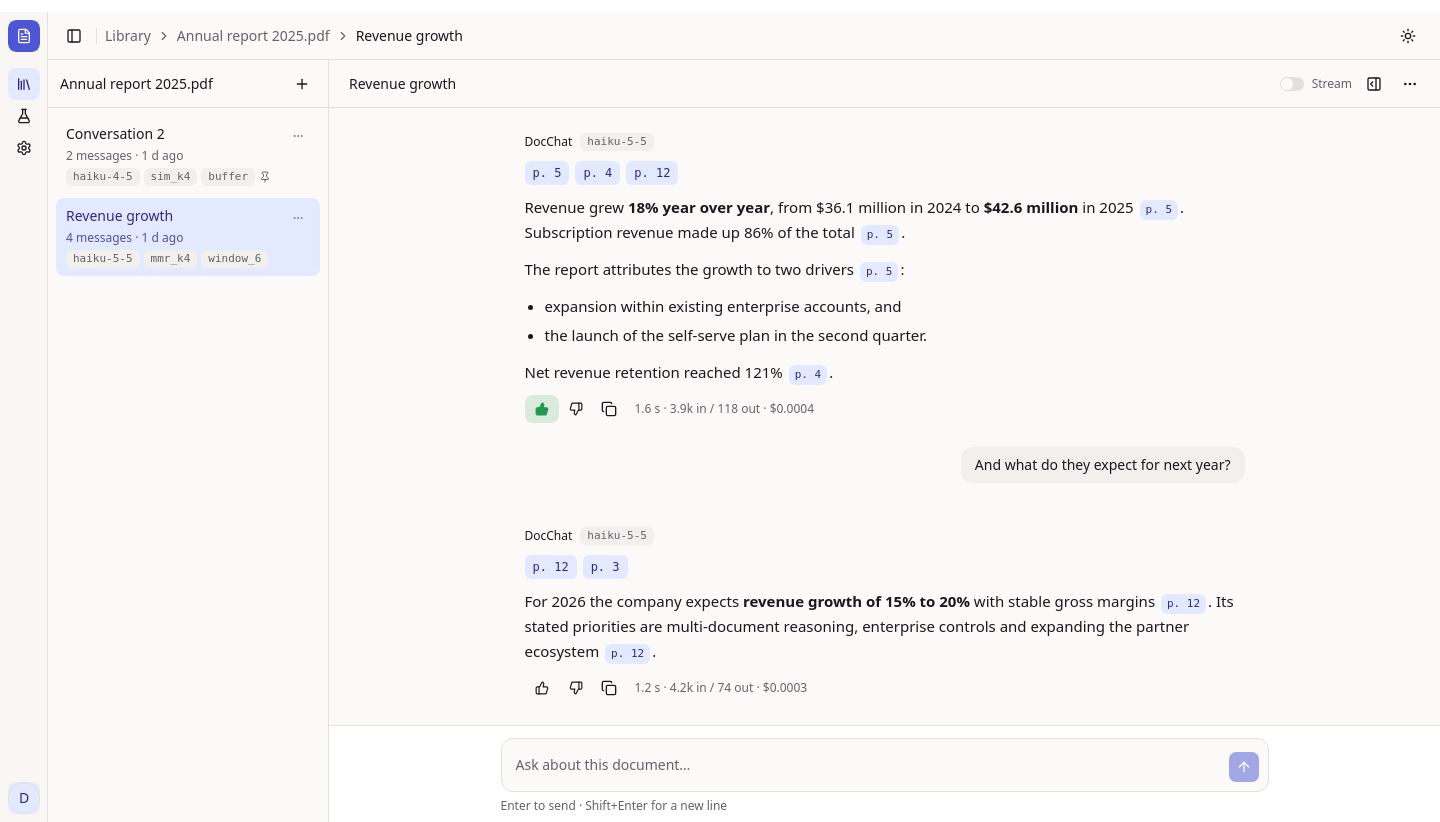
chat › disables the composer while rate limited
The image size is (1440, 822).
(page scrolled)
expect the element named "Messages" is shown: met, box [500,108,1268,725]
Type "hello /ratelimit" into the text box labelled "Ask about this document".
click(864, 765); type("hello /ratelimit")  # box [510,747,1220,783]
Then press Enter
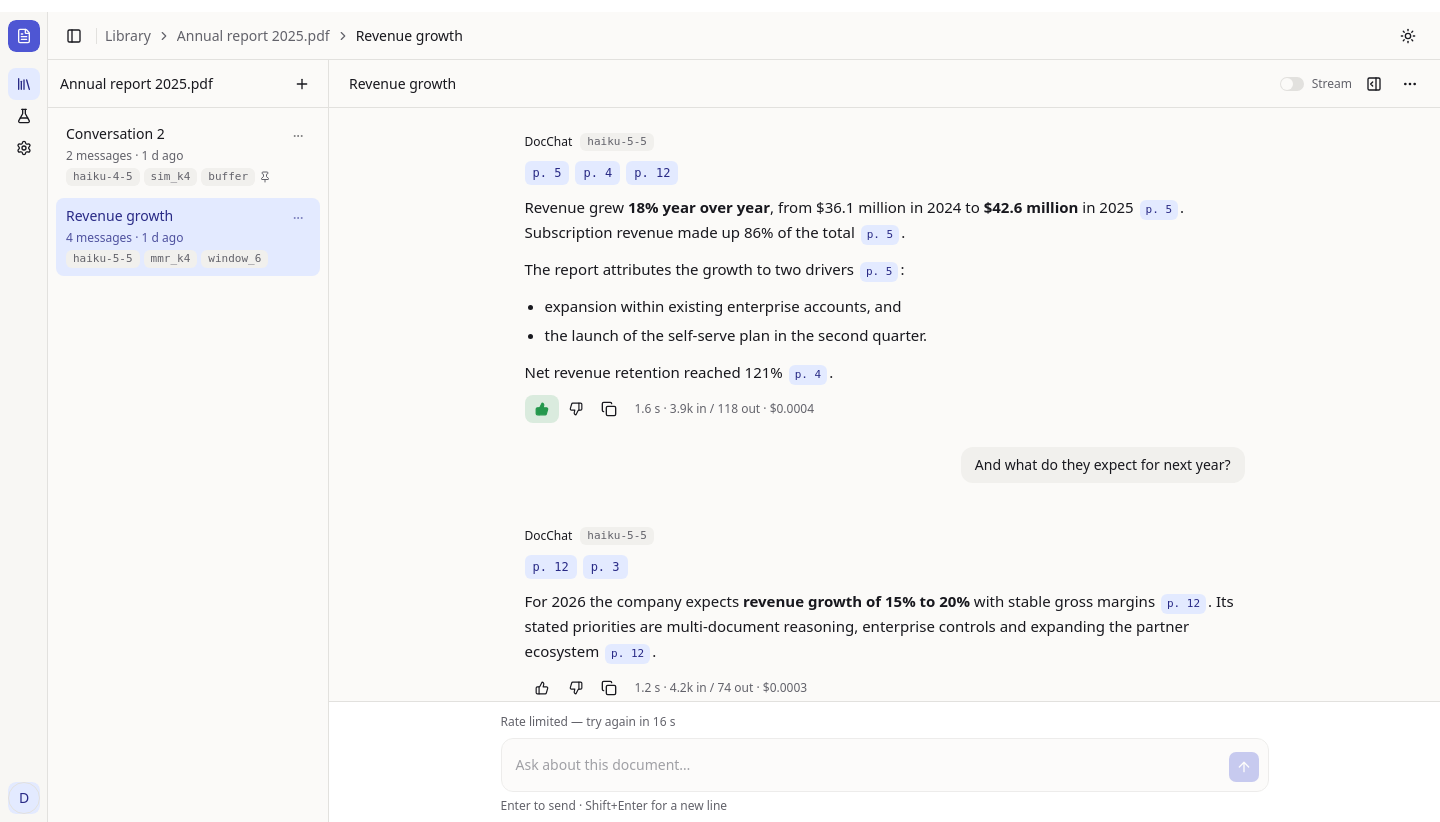
expect the text box labelled "Ask about this document" is disabled: met, box [510,747,1220,783]
